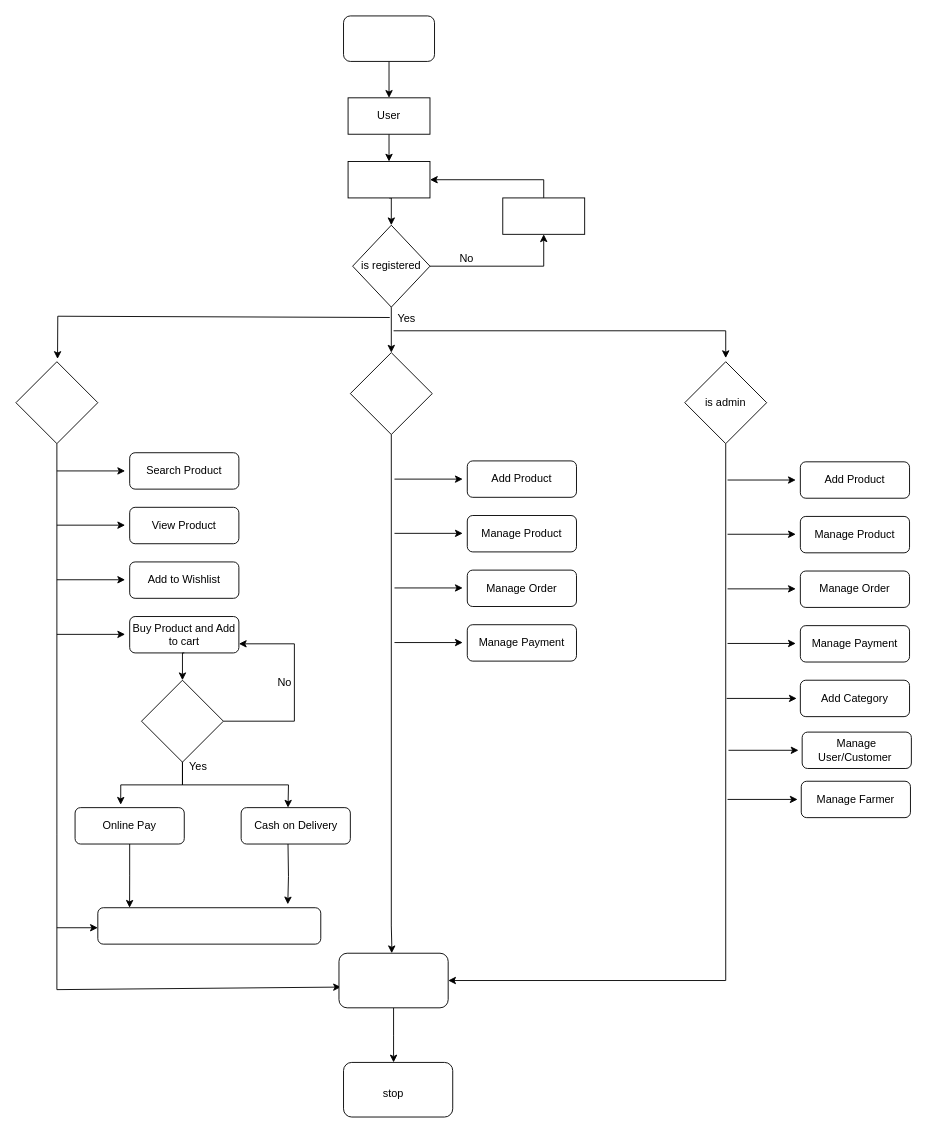
The diagram is 927 pixels wide and 1133 high, and some of its shapes have lost their labels. Each missing label, with the centre of its shape:
is customer: (x=56, y=402)
is Farmer: (x=390, y=393)
Login: (x=388, y=179)
Logout: (x=393, y=980)
Order Placed: (x=209, y=925)
Payment: (x=182, y=720)
Registration: (x=543, y=215)
Start: (x=389, y=38)
